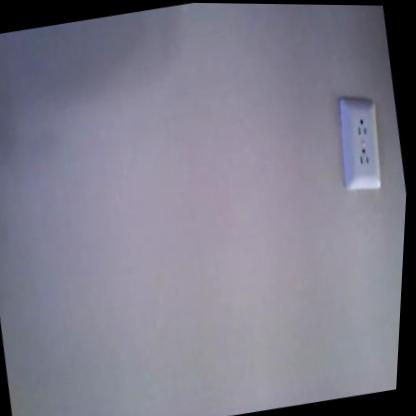OUTLET: (332, 97, 389, 192)
